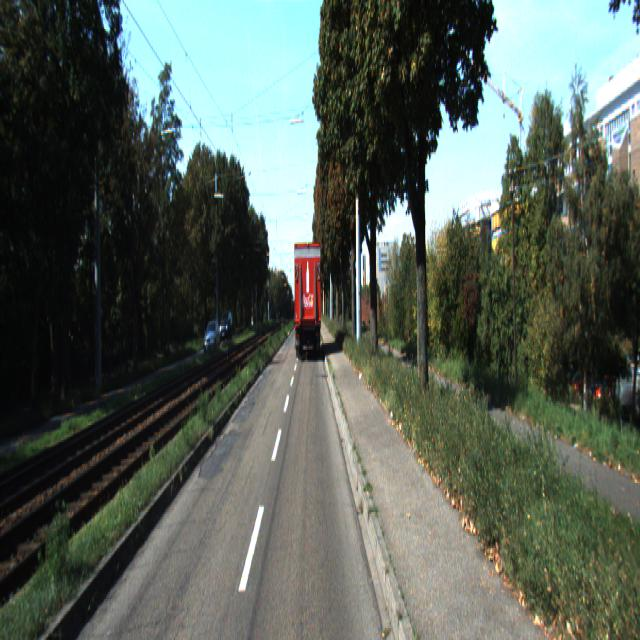Car: (292, 240, 323, 362), (202, 319, 222, 355)
